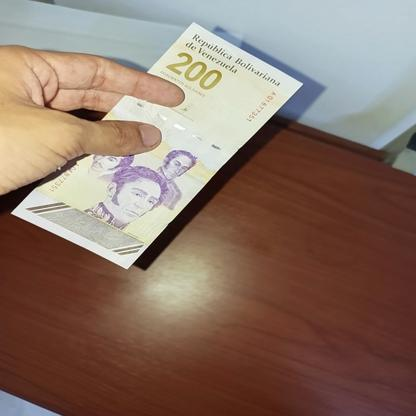two_hundred-front-vef: (10, 21, 304, 271)
